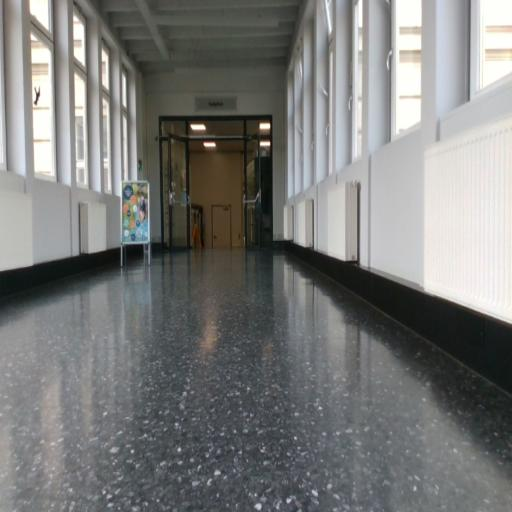car: (0, 2, 512, 512)
